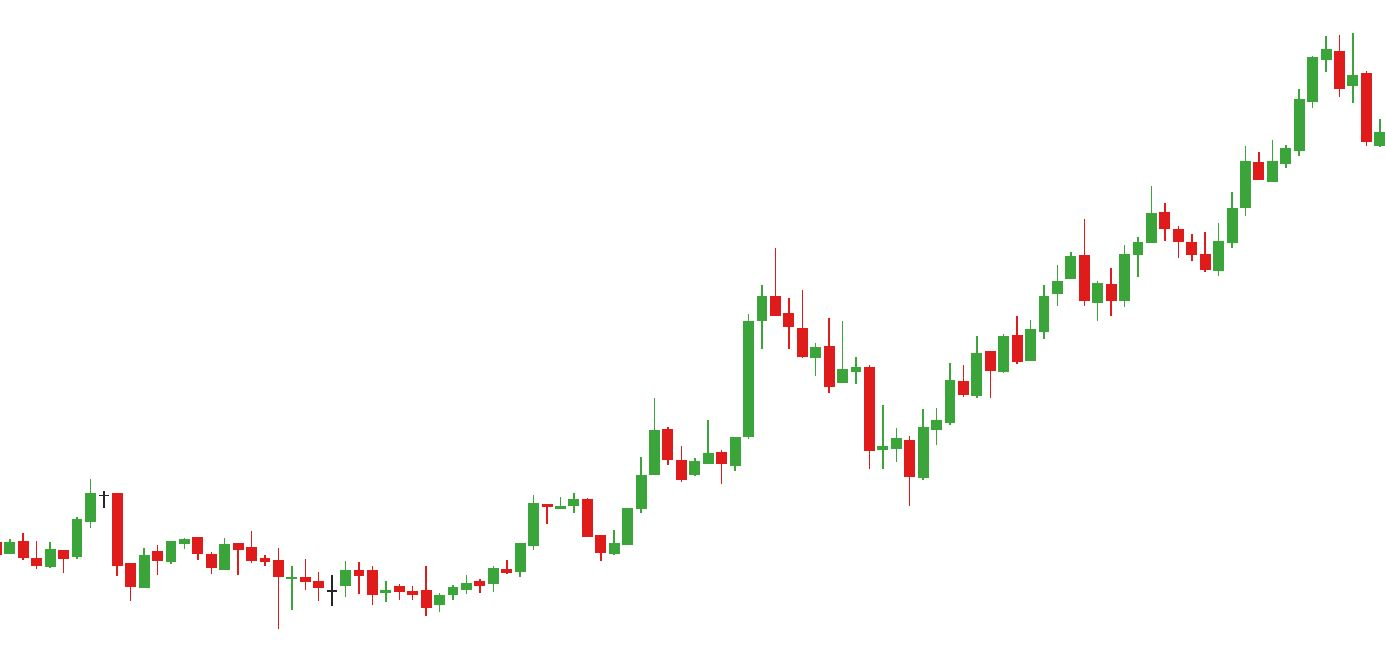buy: (46, 524, 152, 602)
